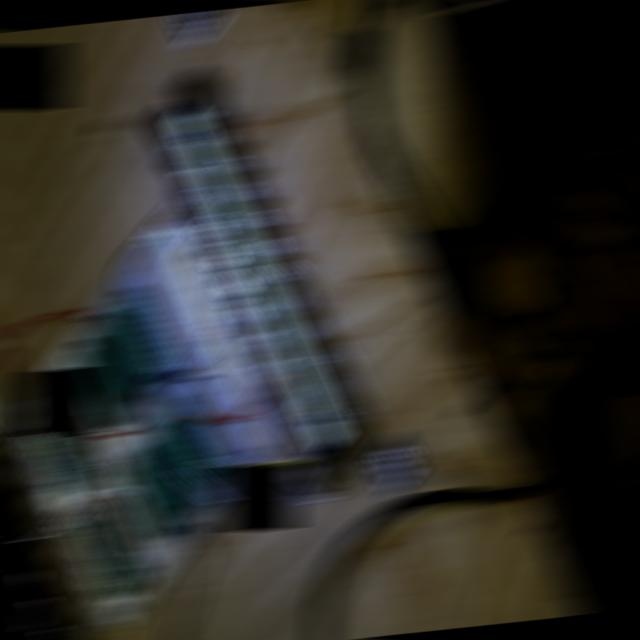Phillips_Block: (132, 64, 381, 489)
Terminal_1: (74, 505, 143, 599), (31, 407, 96, 499)
Terminal_2: (117, 453, 185, 539), (160, 397, 226, 484), (139, 426, 204, 512), (69, 341, 134, 426), (88, 314, 153, 399)
